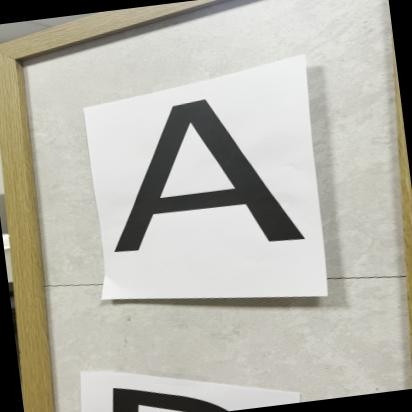seat: (92, 78, 326, 274)
